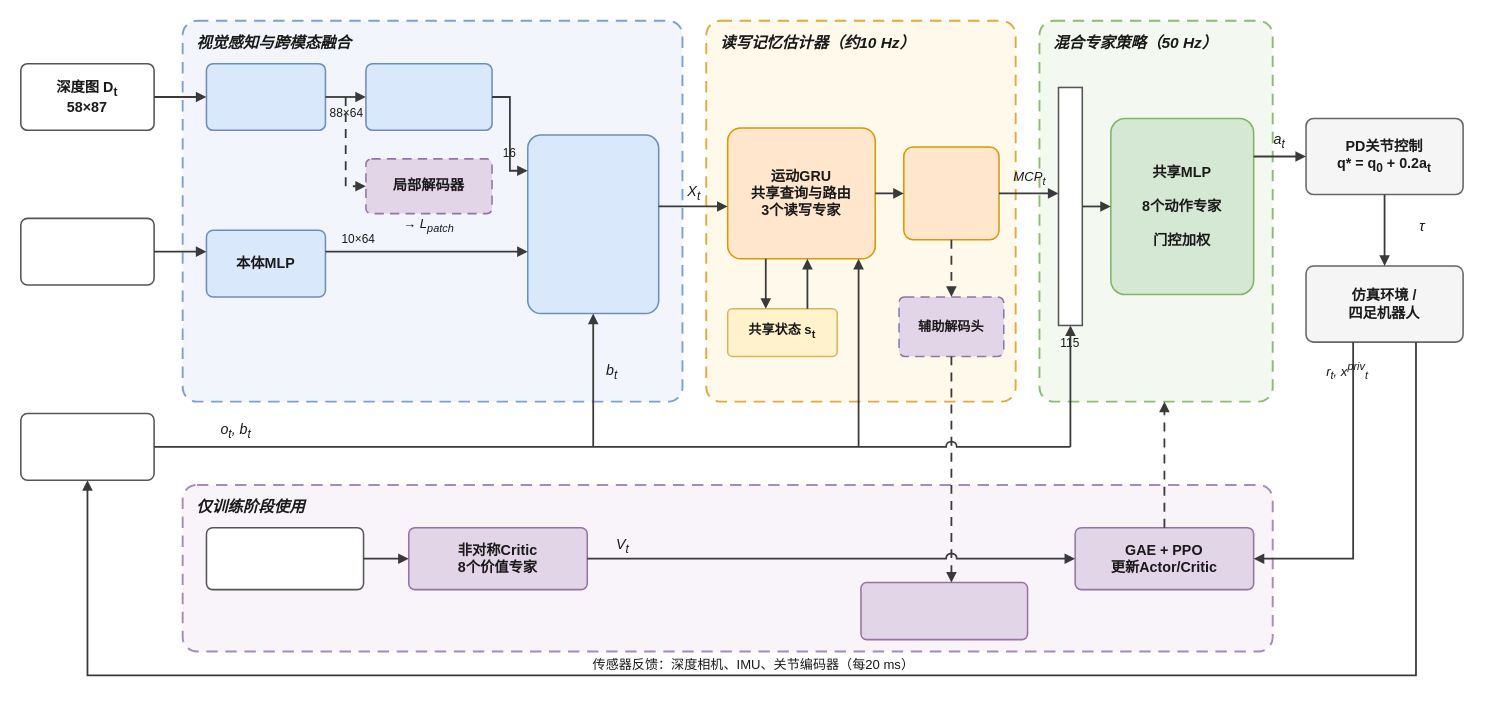
Image size: 1485x706. Some labels were removed from this diagram. The shapes that lost their labels are listed below. From the top down, each one's centre as x and y in pixels, then its label:
the point at 265,96: 深度CNN 3层卷积
the point at 428,96: 主动采样 K = 16
the point at 950,193: 输出头
the point at 592,224: 跨模态 Transformer (27个token)
the point at 87,251: 本体历史 O t 10×45
the point at 87,446: 当前观测 o t 视觉标志 b t
the point at 284,558: 特权观测 x priv t 269维 + b t
the point at 944,610: 估计器辅助损失 独立Adam更新
